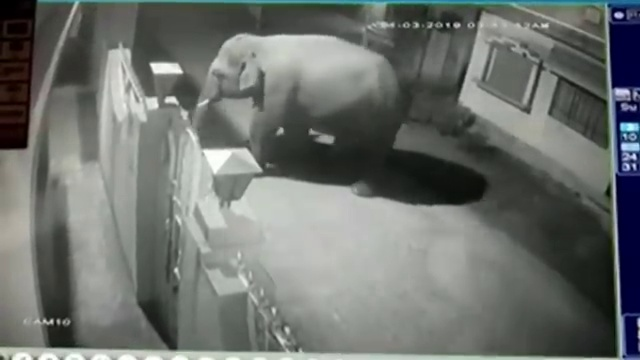Elephant: (192, 32, 411, 198)
